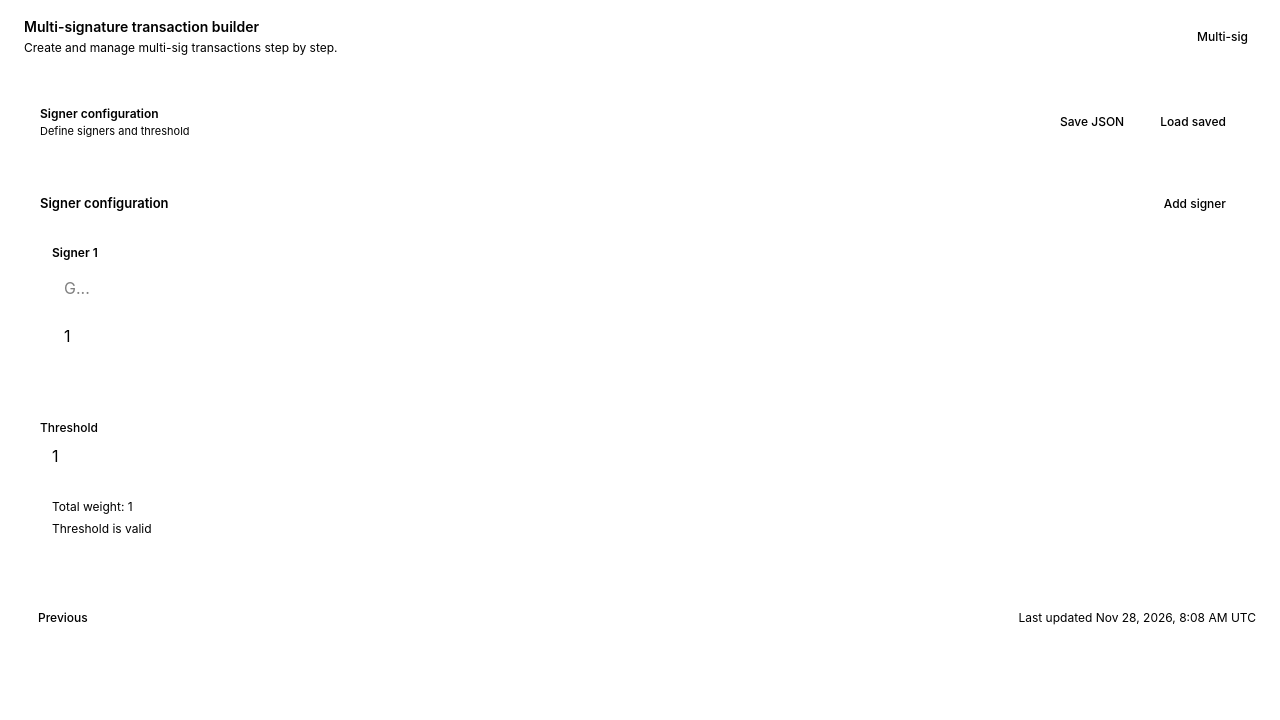
Test: MultiSigTransactionBuilder › blocks Next while the threshold exceeds total signer weight
Replace the text in the number field labelled "Threshold" with "2" at (640, 456), box [40,438,1240,474]
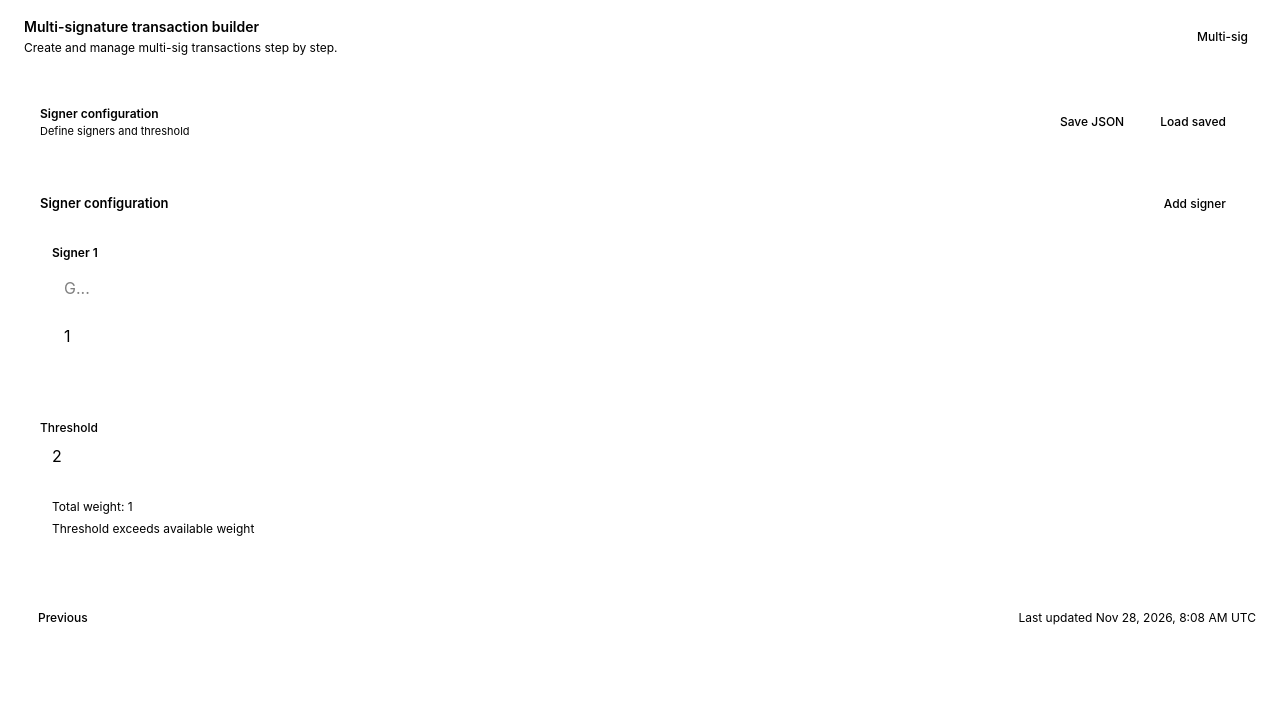
Check: the text "Threshold exceeds available weight" is shown, box [52,520,254,536]
